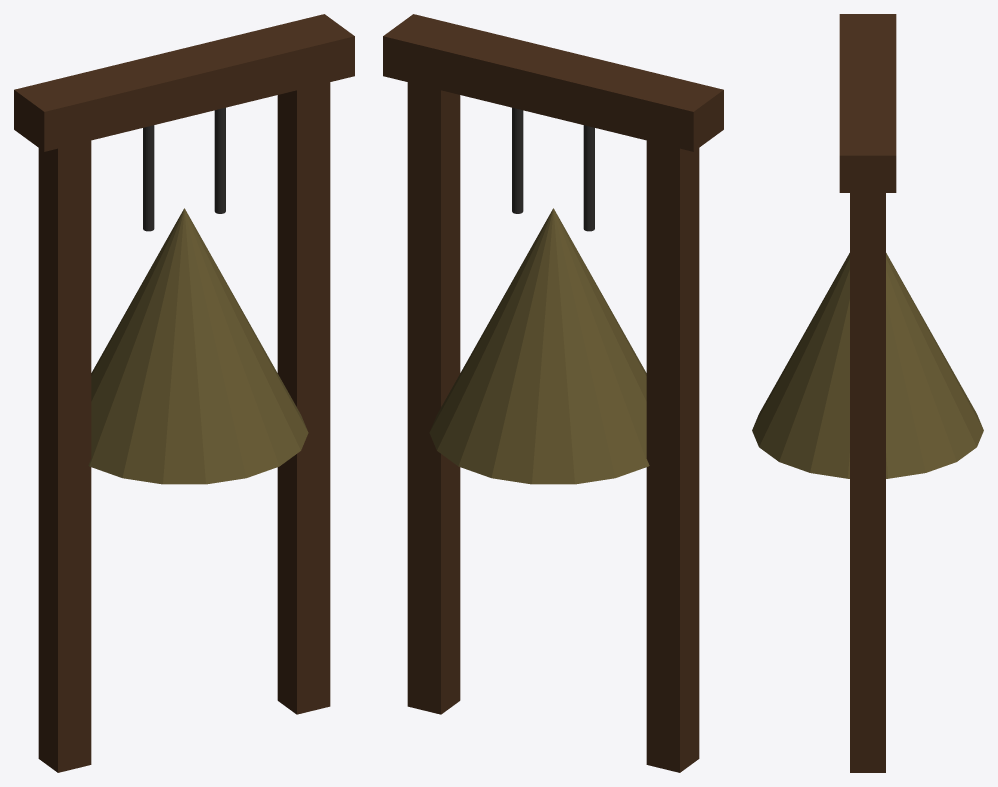
Rendered from belfry-bell.65284073.glb.
3 views of the same model, side by side, from view 1: azimuth 30°, elevation 25°; view 2: azimuth 150°, elevation 25°; view 3: azimuth 270°, elevation 25° (orthographic). The views are drawn at different scales.
Parts seen in each view (by area): view 1: body, swing; view 2: body, swing; view 3: body, swing.
Boxes of the visible parts, x1,y1,x2,y2 form: body: (14,14,354,772); swing: (88,107,308,484); body: (383,14,723,772); swing: (429,107,649,484); body: (839,14,896,772); swing: (752,253,983,478).
Size of the model in its own units: 1.3 by 2.68 by 0.9.
